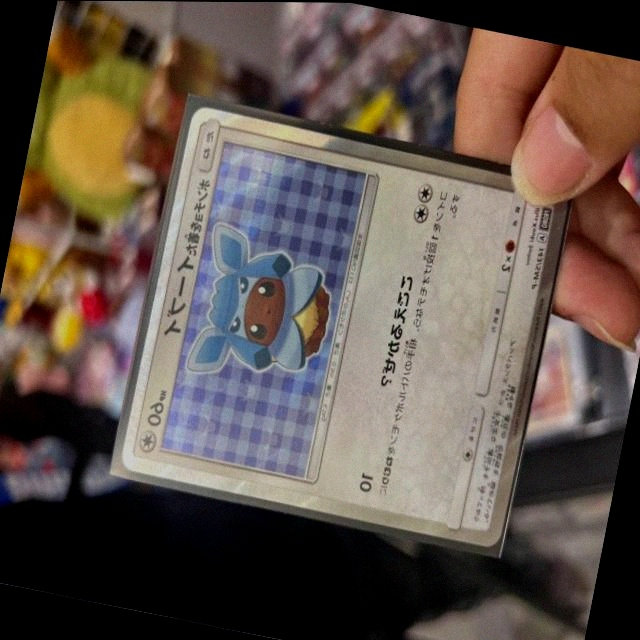card: (120, 107, 568, 547)
